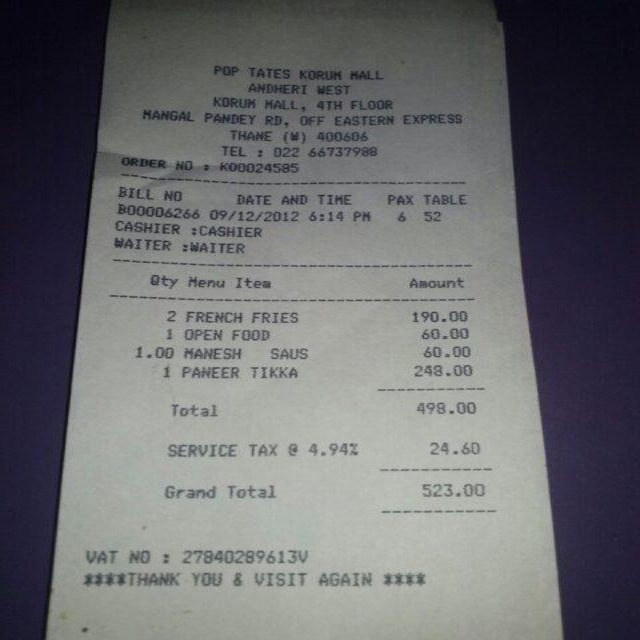invoice_table: (135, 309, 475, 381)
invoice_title: (141, 64, 465, 158)
invoice_total: (224, 482, 487, 501)
